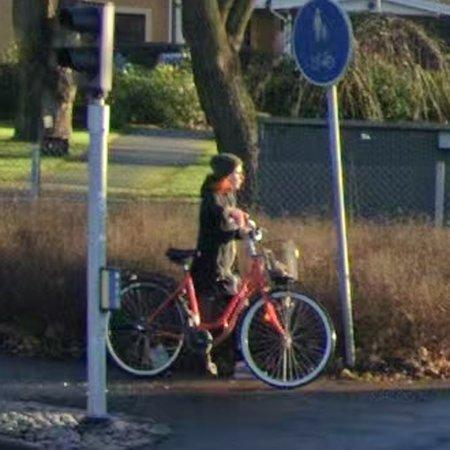bicycles: (108, 228, 336, 388)
